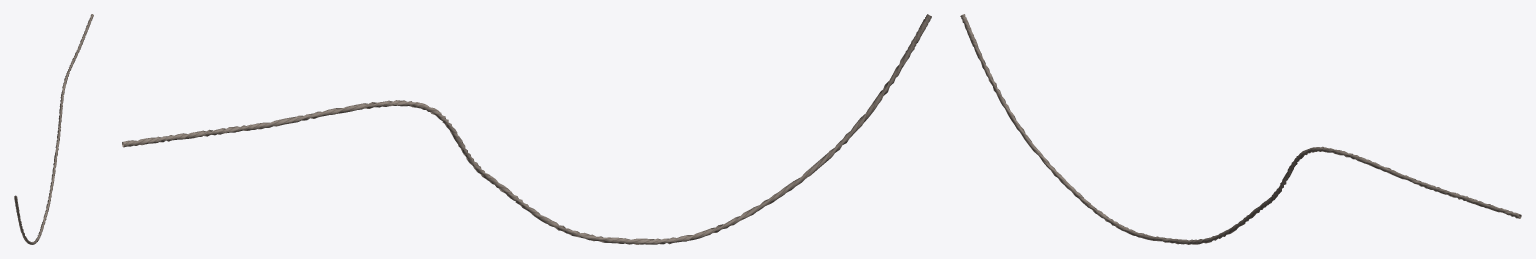
The model's file is SM_RopeSplineMesh_Splines_2.fbx.
3 views of the same model, side by side, from view 1: azimuth 30°, elevation 25°; view 2: azimuth 150°, elevation 25°; view 3: azimuth 270°, elevation 25° (orthographic). The views are drawn at different scales.
Visible parts, largest first — view 1: SM_RopeSplineMesh_Splines_2; view 2: SM_RopeSplineMesh_Splines_2; view 3: SM_RopeSplineMesh_Splines_2.
Boxes of the visible parts, x1,y1,x2,y2 form: SM_RopeSplineMesh_Splines_2: [14, 14, 93, 244]; SM_RopeSplineMesh_Splines_2: [122, 14, 931, 244]; SM_RopeSplineMesh_Splines_2: [960, 14, 1521, 244].
Bounding box in the file's own units: 219 × 261 × 82.38.
